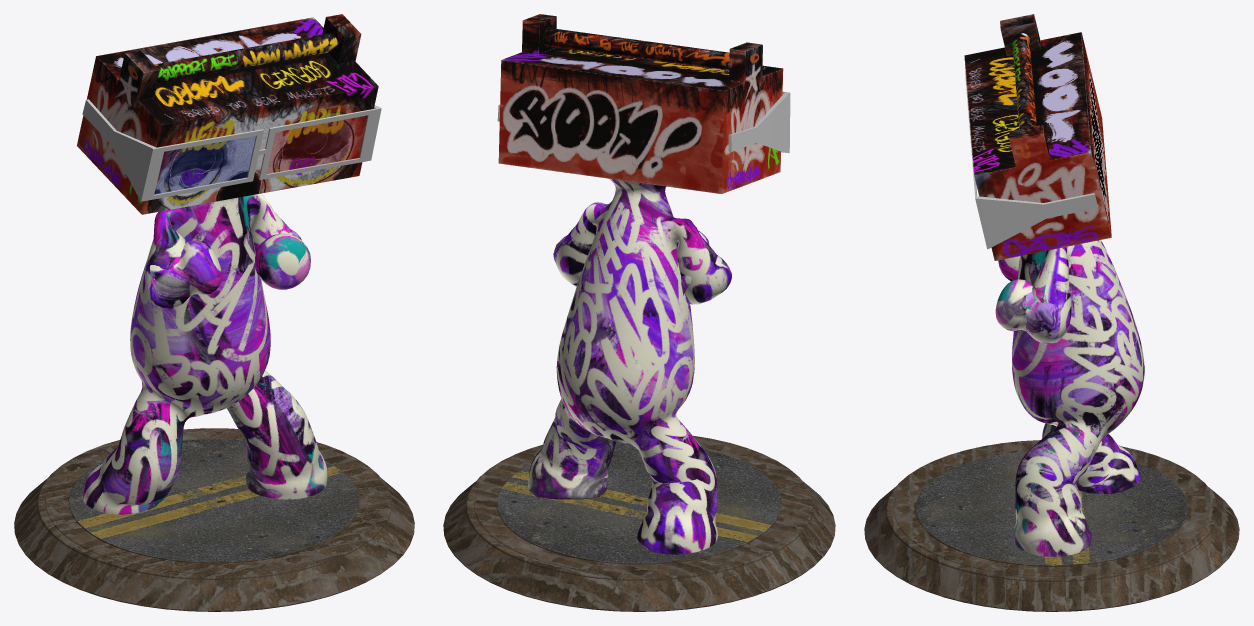
File: 248_sanitized.glb
3 views of the same model, side by side, from view 1: azimuth 30°, elevation 25°; view 2: azimuth 150°, elevation 25°; view 3: azimuth 270°, elevation 25° (orthographic). The views are drawn at different scales.
Visible parts, largest first — view 1: BBody; view 2: BBody; view 3: BBody.
Boxes of the visible parts, x1,y1,x2,y2 form: BBody: (14,14,414,611); BBody: (443,14,835,611); BBody: (864,14,1239,611).
Size of the model in its own units: 1.45 by 2.02 by 1.45.
7 materials, 4 textured.
